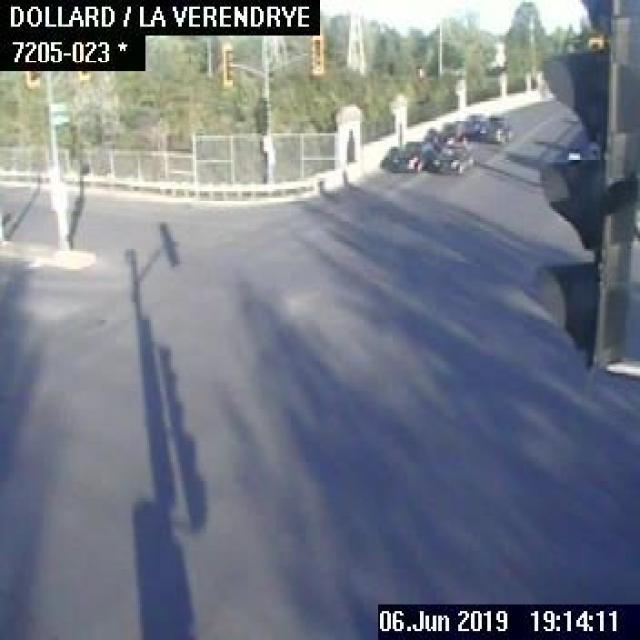vehicle: (428, 141, 471, 173), (387, 141, 427, 175), (477, 112, 512, 143), (436, 119, 464, 144), (460, 113, 485, 139)
